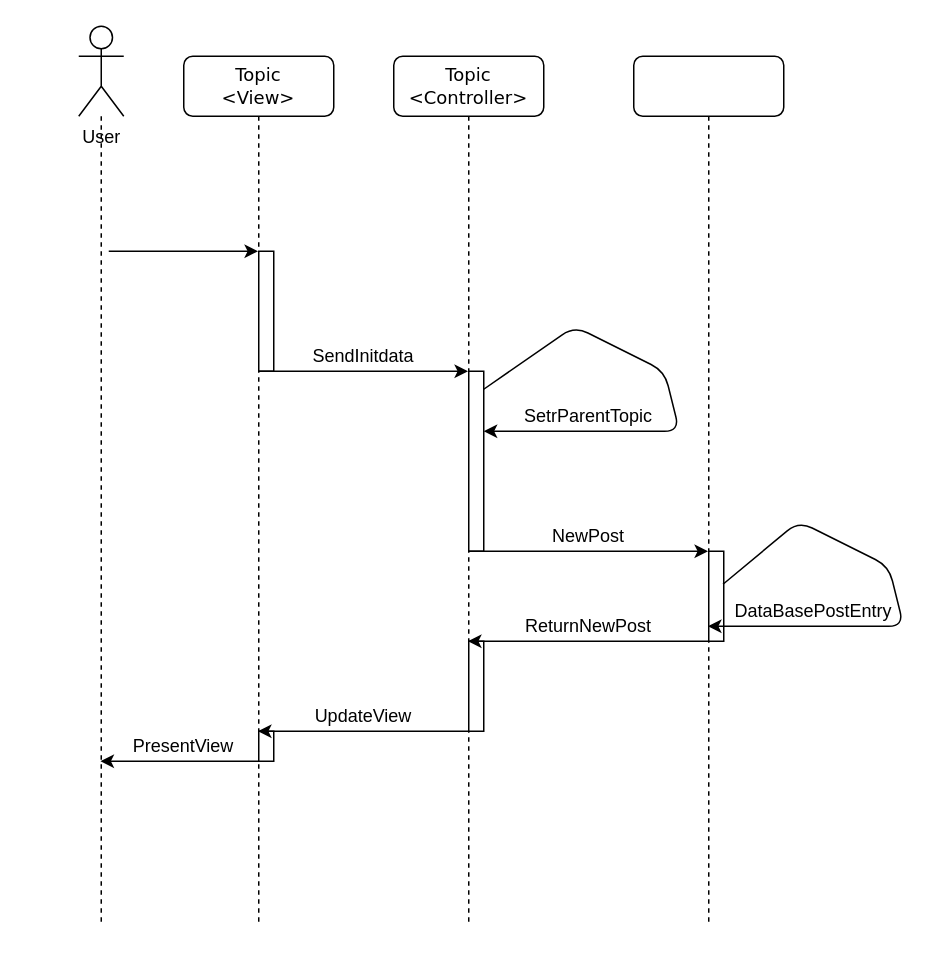
Image size: 942x953. Some labels were removed from this diagram. Here are the shapes that lost their labels. From the top down, the box of each, then its label:
(632, 55, 784, 926): DataConnect
(25, 115, 176, 926): Creates
